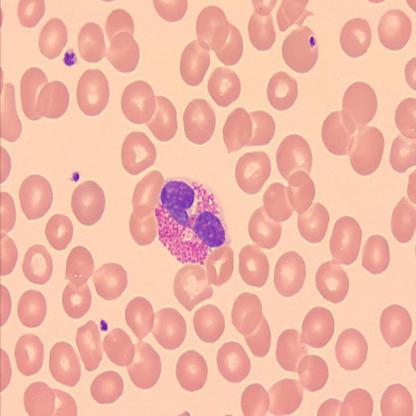Eosinophil: (155, 175, 227, 263)
